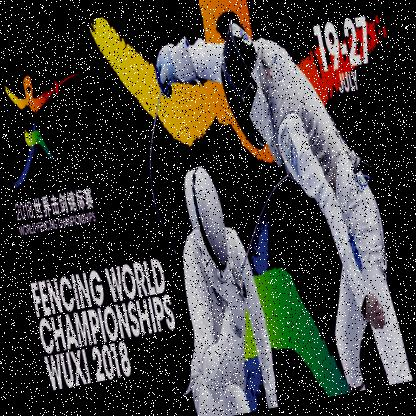fencer: (140, 0, 415, 415), (142, 148, 293, 415)
